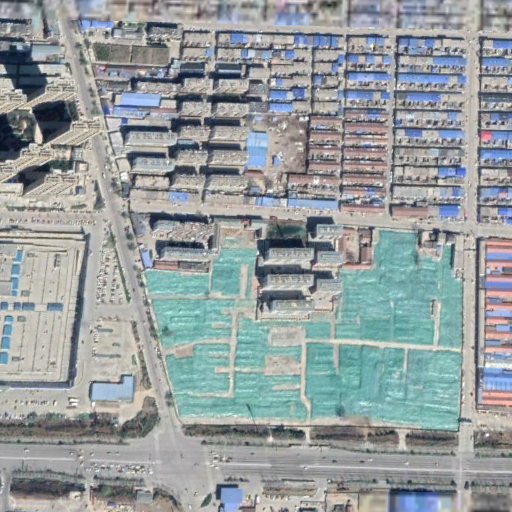cw: (144, 225, 463, 430)
